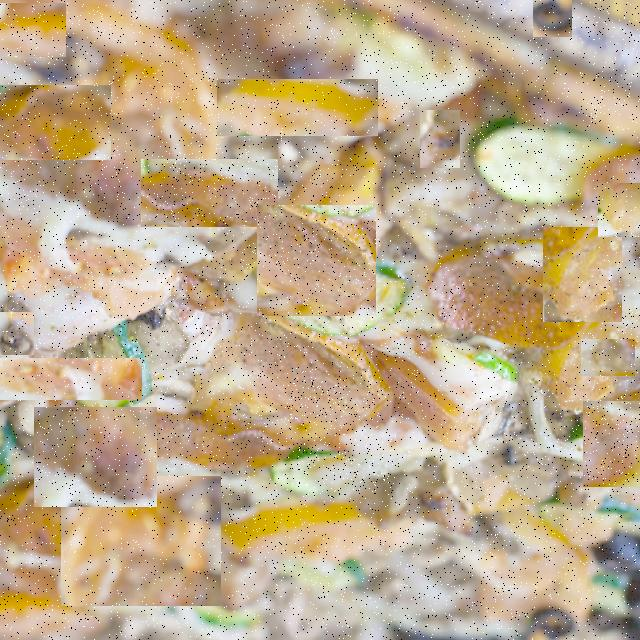Beef: (34, 407, 157, 507), (420, 110, 460, 168), (581, 339, 635, 376)
Olives: (592, 0, 640, 120), (0, 312, 34, 355), (533, 0, 572, 37)
Pepperoni: (61, 476, 221, 606), (426, 297, 574, 388), (257, 205, 376, 316), (141, 159, 278, 227), (0, 86, 111, 162), (583, 401, 640, 487)
Tomato: (288, 377, 391, 499), (218, 79, 380, 136), (543, 227, 622, 322), (382, 195, 466, 269), (0, 358, 142, 400), (0, 3, 66, 57), (598, 183, 640, 237)
